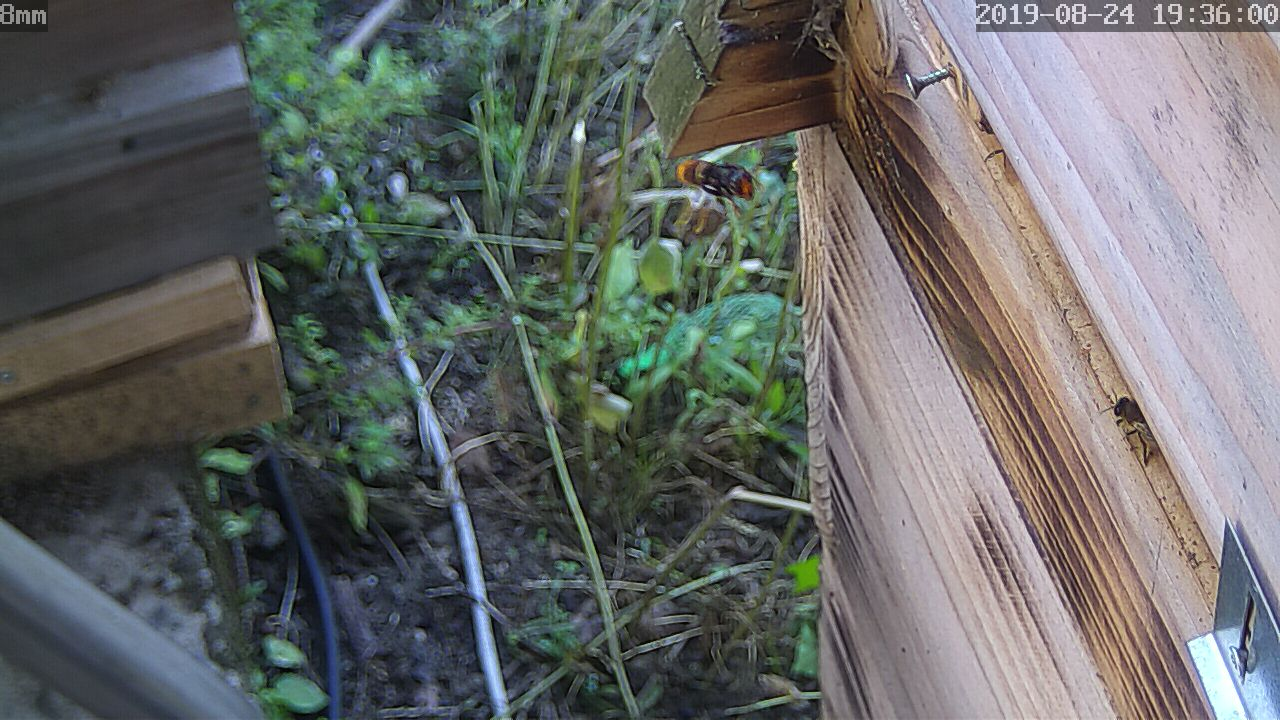bee: (1101, 387, 1148, 444)
hornet: (665, 148, 764, 227)
